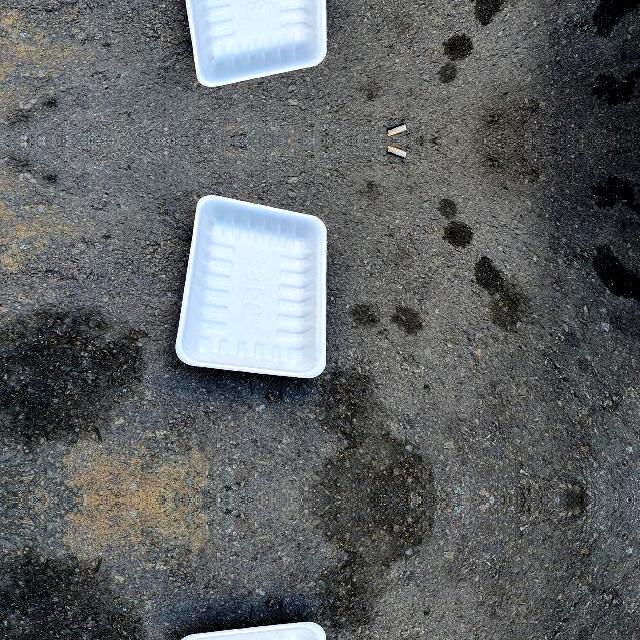Styrofoam: (174, 194, 326, 376), (176, 194, 326, 378), (173, 0, 326, 86), (185, 0, 326, 86)
